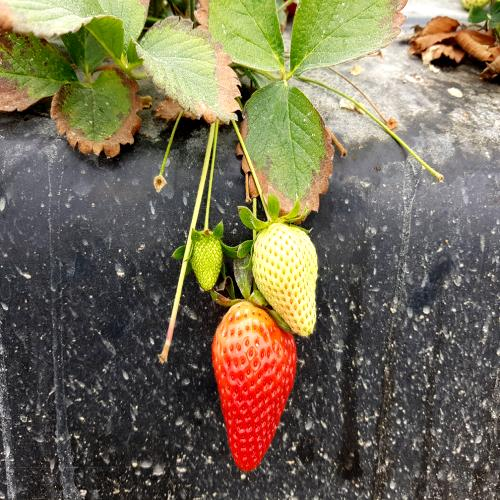ripe: (211, 292, 298, 491)
